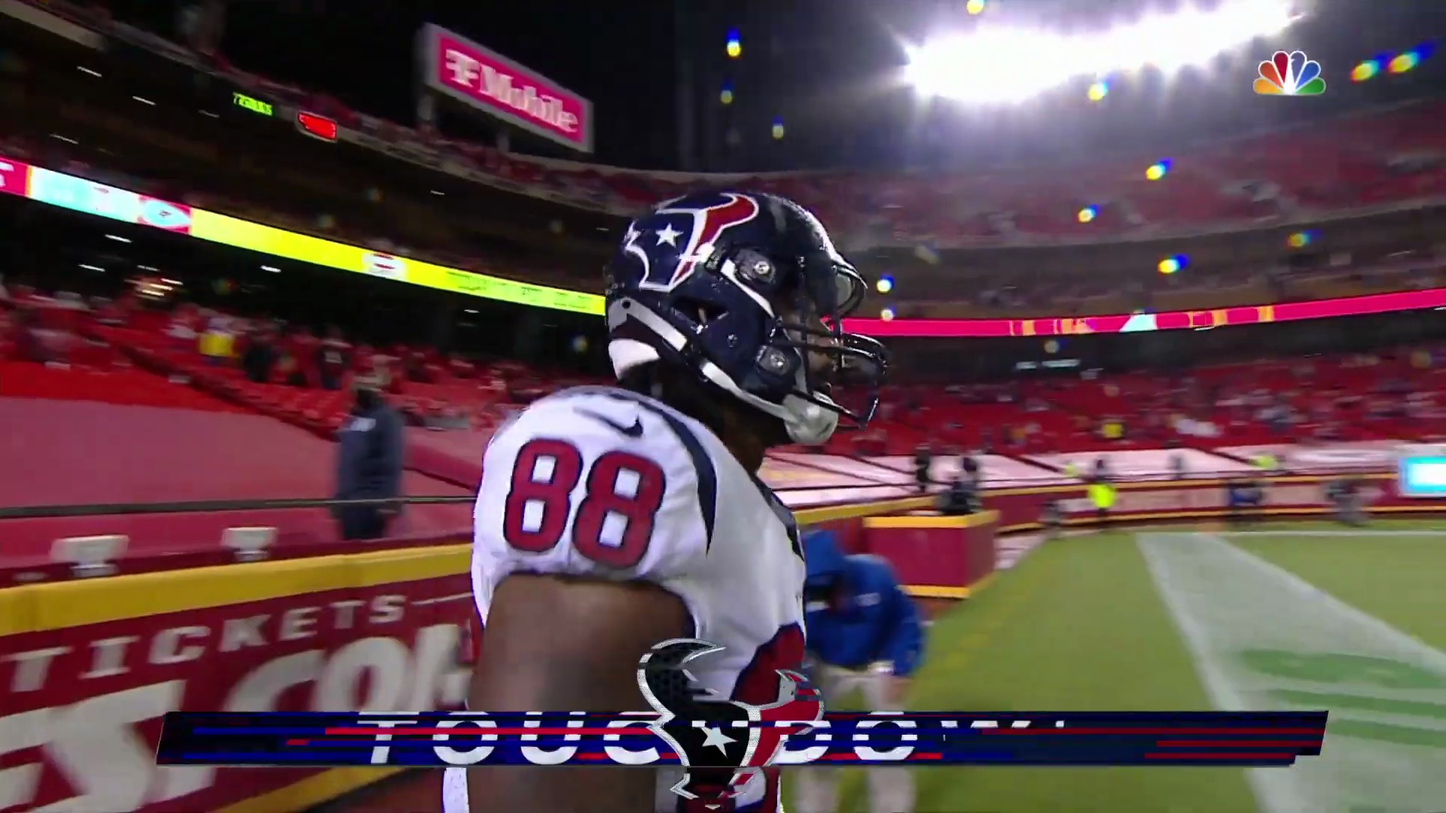Player: (491, 165, 981, 702)
